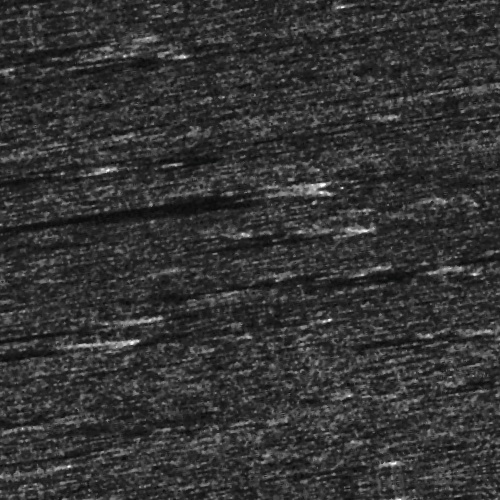object: (275, 191, 368, 210), (265, 182, 358, 201), (271, 276, 406, 285), (297, 236, 380, 249), (58, 314, 141, 327), (97, 18, 190, 29), (0, 385, 53, 398), (69, 143, 152, 150), (409, 290, 462, 299), (79, 299, 152, 304), (329, 472, 370, 479)
shadow: (0, 182, 312, 201), (133, 191, 321, 210), (155, 236, 338, 249), (97, 276, 339, 285), (0, 18, 143, 29), (0, 314, 99, 327), (317, 290, 435, 299), (0, 143, 110, 150), (441, 280, 500, 291), (0, 299, 115, 304), (289, 472, 349, 479)
